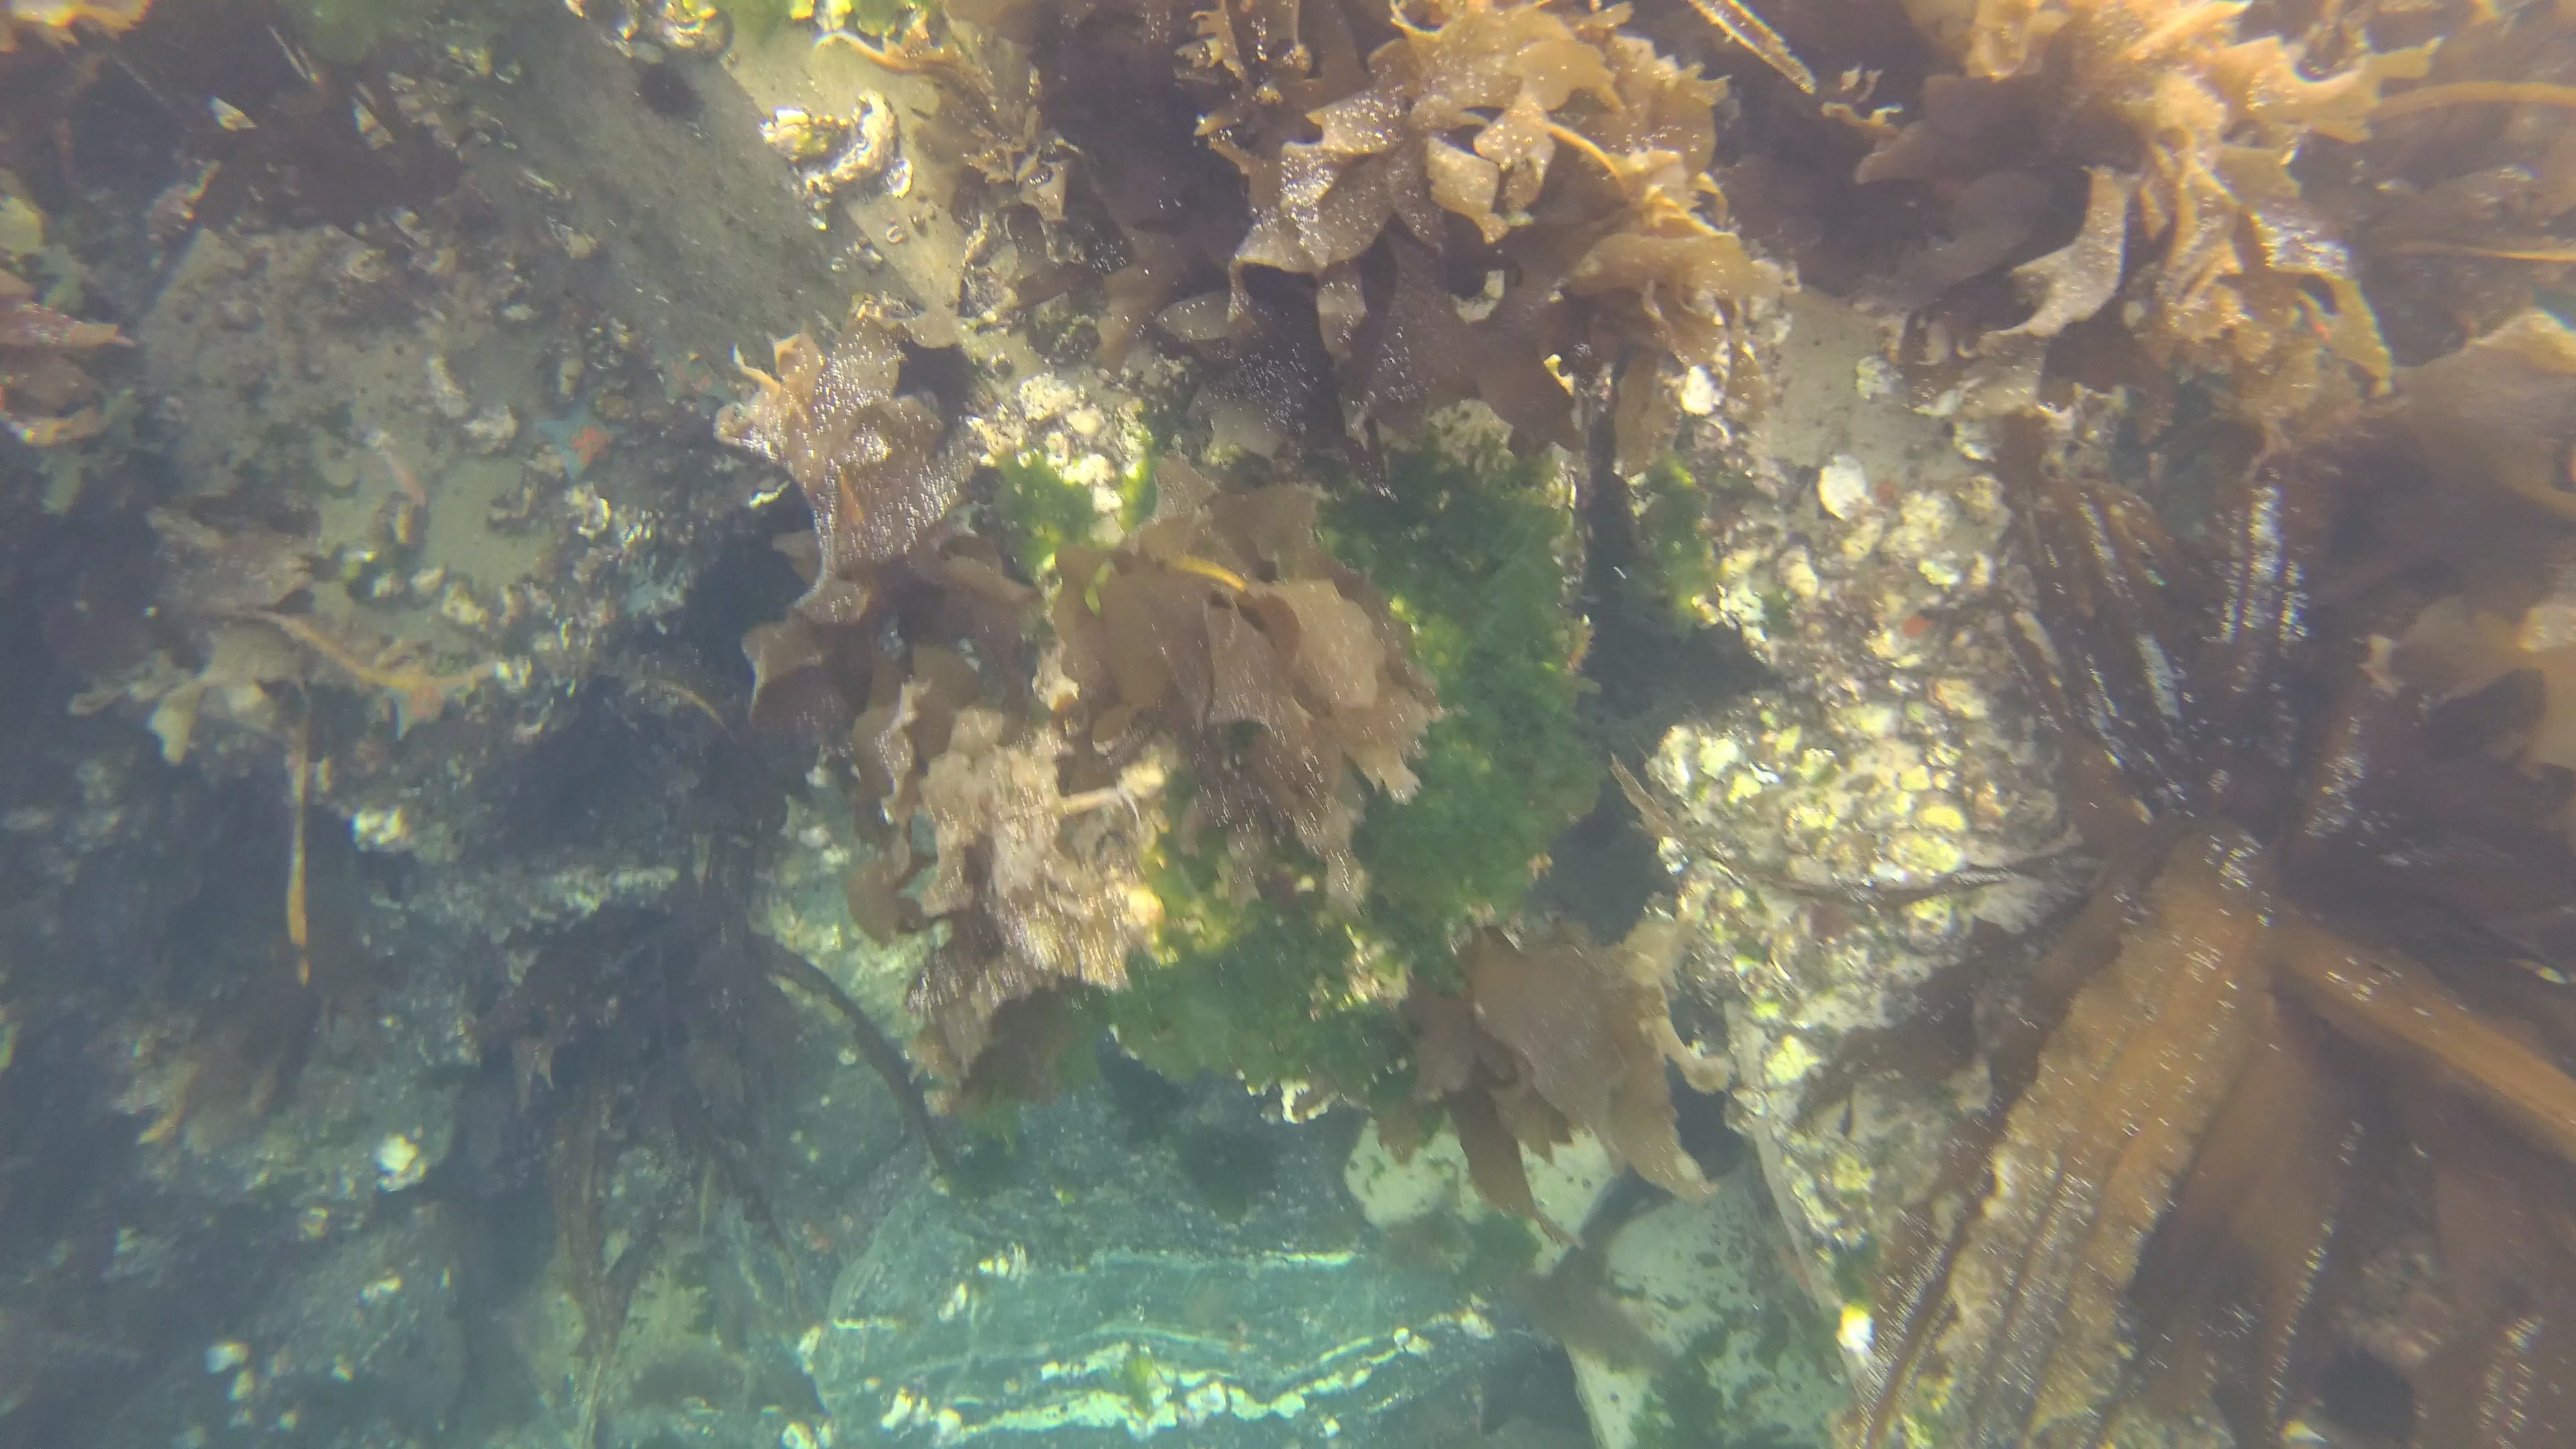echinus: (2307, 1336, 2424, 1449), (890, 336, 980, 451), (639, 62, 695, 122)
starfish: (534, 391, 628, 483), (380, 655, 460, 740)
